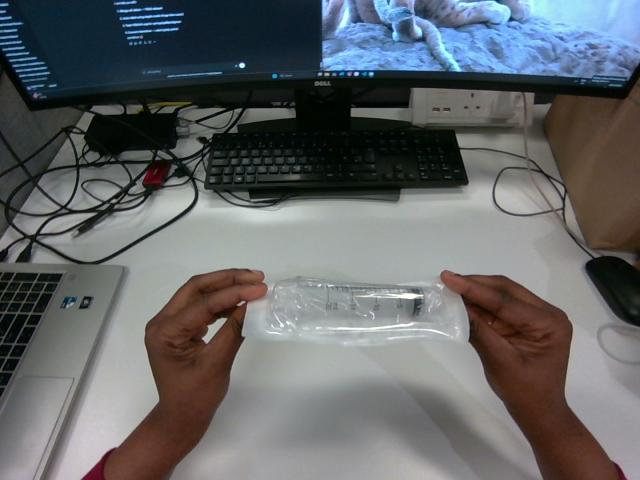syringe: (243, 277, 468, 345)
